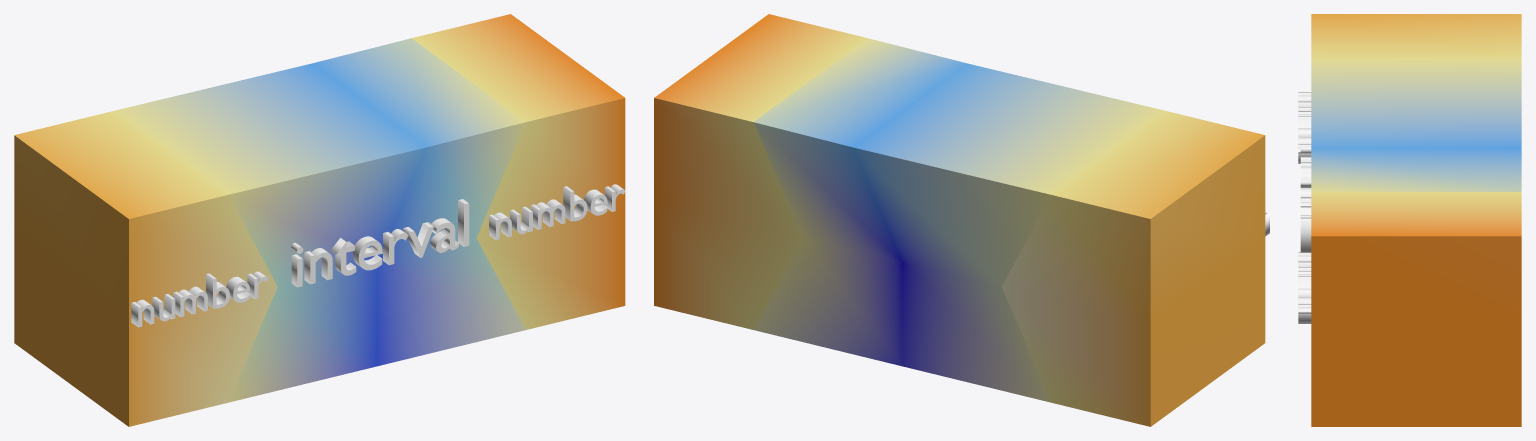
The model's file is numberinterval.fbx.
3 views of the same model, side by side, from view 1: azimuth 30°, elevation 25°; view 2: azimuth 150°, elevation 25°; view 3: azimuth 270°, elevation 25° (orthographic). The views are drawn at different scales.
Visible parts, largest first — view 1: Würfel.002, Würfel.001, Würfel.003, Text, Text.002, Text.001; view 2: Würfel.002, Würfel.001, Würfel.003; view 3: Würfel.003, Würfel.002, Würfel.001, Text, Text.001, Text.002.
Boxes of the visible parts, box(x1,y1,x2,y2) form: Würfel.002: box(114, 38, 525, 402); Würfel.001: box(14, 111, 277, 426); Würfel.003: box(411, 14, 625, 329); Text: box(291, 199, 469, 287); Text.002: box(131, 271, 267, 327); Text.001: box(489, 184, 625, 240); Würfel.002: box(753, 38, 1165, 402); Würfel.001: box(1002, 111, 1265, 426); Würfel.003: box(654, 14, 867, 329); Würfel.003: box(1311, 192, 1521, 426); Würfel.002: box(1311, 58, 1521, 191); Würfel.001: box(1311, 14, 1521, 58); Text: box(1300, 146, 1311, 252); Text.001: box(1298, 252, 1311, 323); Text.002: box(1298, 92, 1311, 163).
Bounding box in the file's own units: 500 × 200 × 212.
